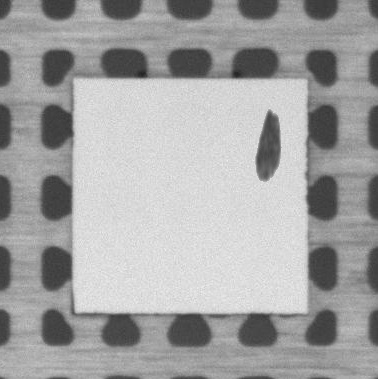DIE_INK: (256, 108, 281, 182)
